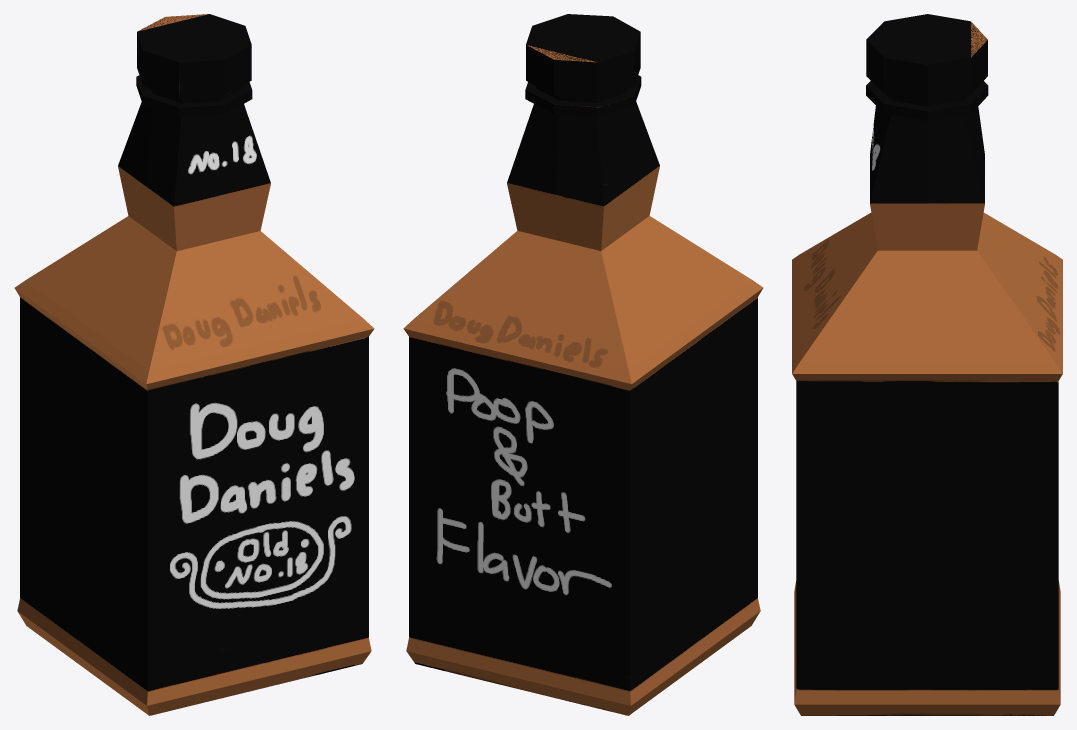
The model's file is whiskey.fbx.
The picture shows the model from 3 angles, left to right: view 1: azimuth 30°, elevation 25°; view 2: azimuth 150°, elevation 25°; view 3: azimuth 270°, elevation 25°; orthographic projection. The views are drawn at different scales.
Parts seen in each view (by area): view 1: Cube; view 2: Cube; view 3: Cube.
Boxes of the visible parts, <box> form: Cube: <box>14,14,374,715</box>; Cube: <box>403,14,763,715</box>; Cube: <box>792,14,1062,715</box>.
Bounding box in the file's own units: 206 × 524 × 206.
Materials: 1 (1 with a texture image).
